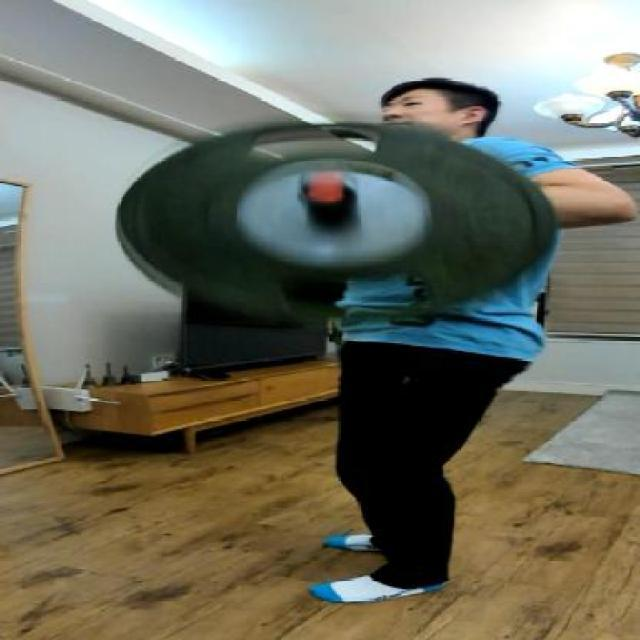barbell: (112, 116, 583, 340)
